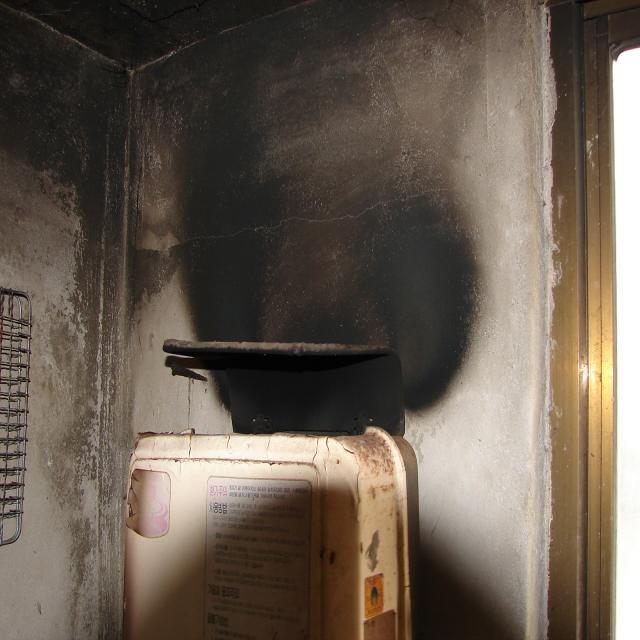Boiler: (80, 371, 454, 640)
